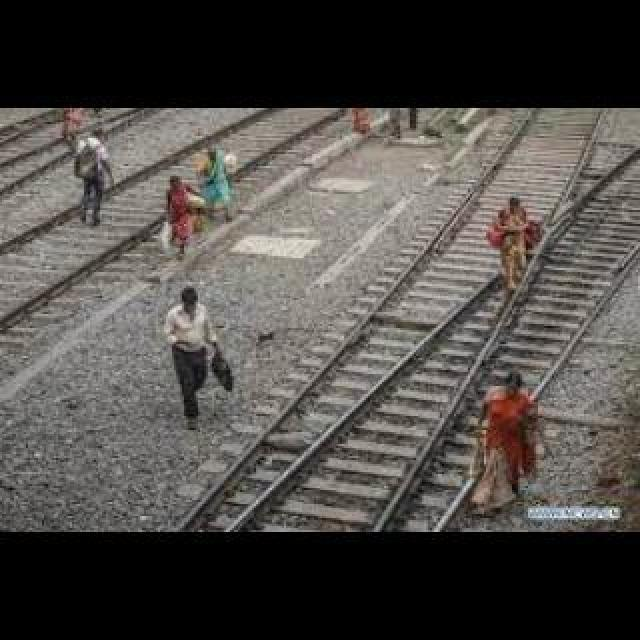people: (462, 373, 544, 519), (159, 283, 215, 431), (491, 199, 545, 291), (71, 129, 117, 233), (157, 173, 201, 261), (191, 141, 239, 221)
